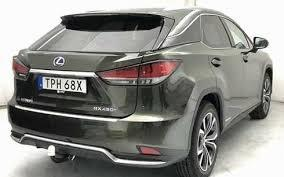license-plates: (42, 78, 87, 92)
